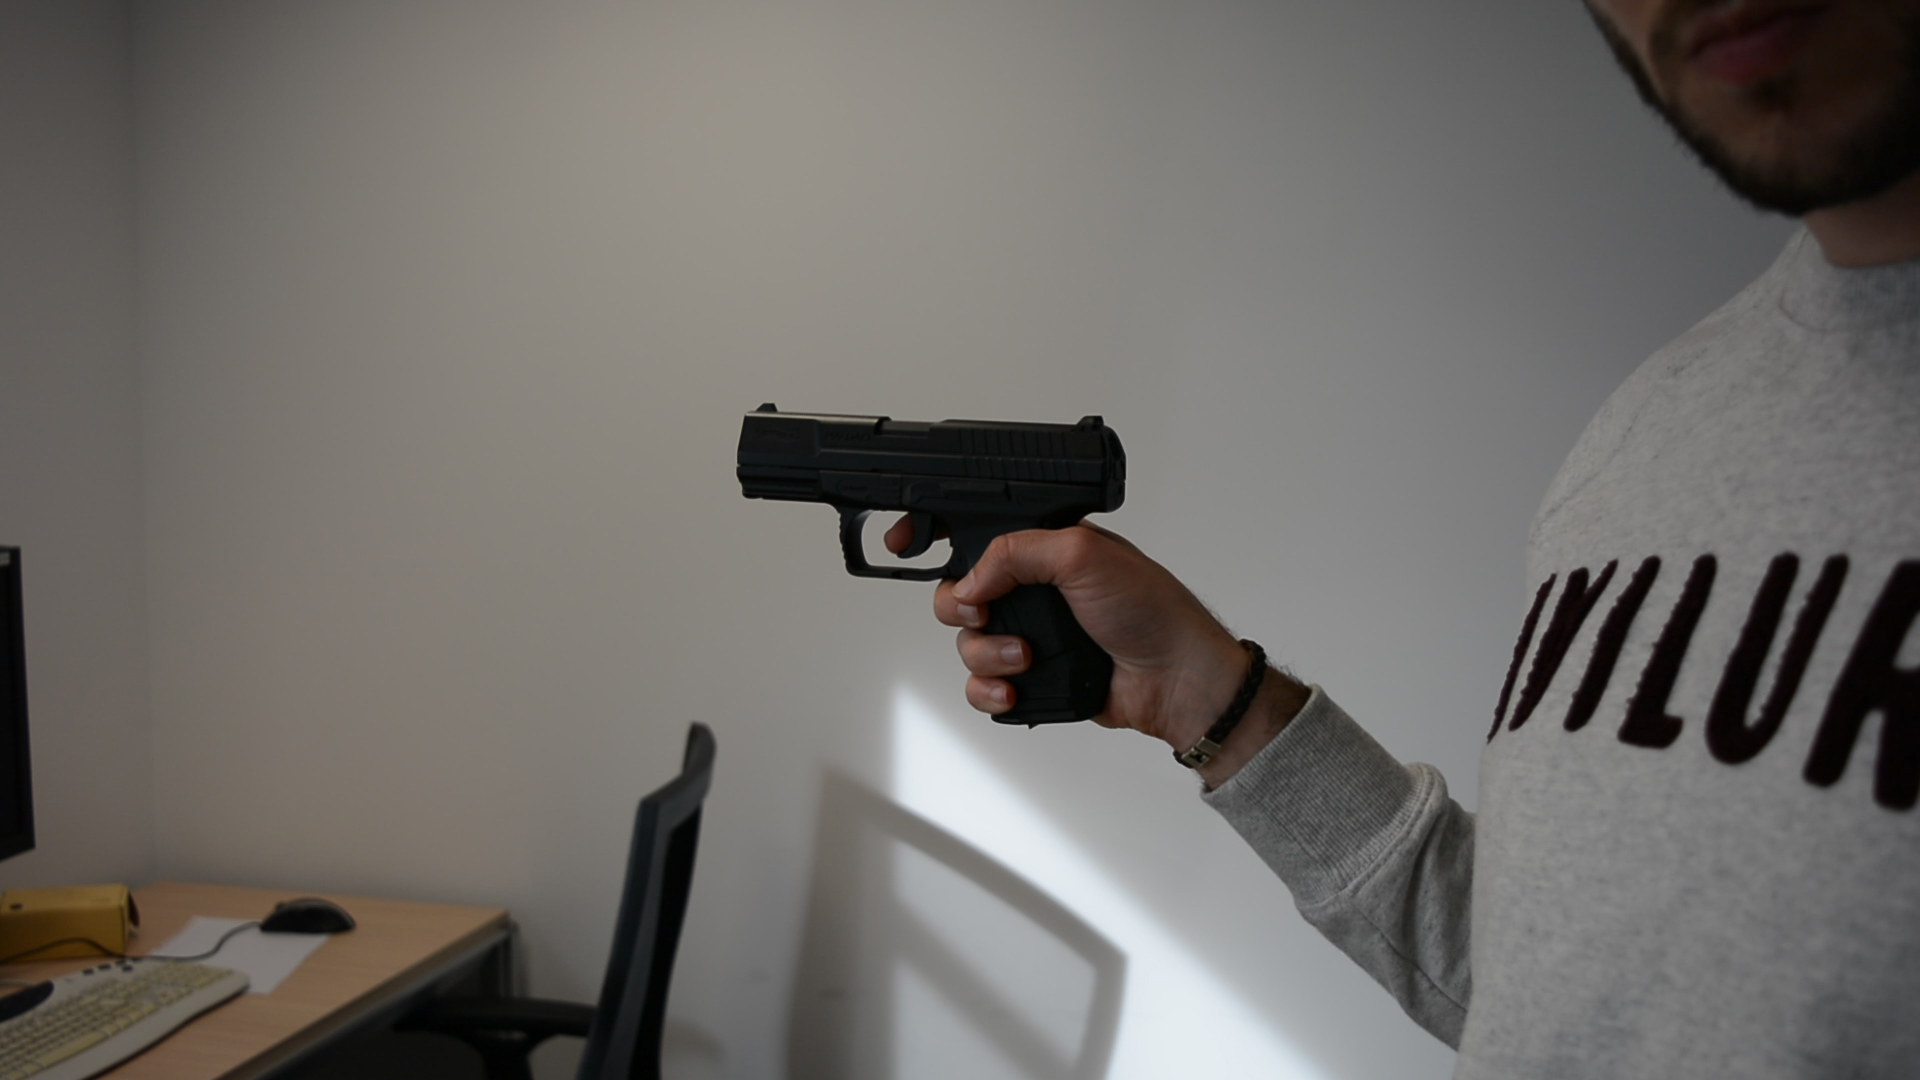pistol: (735, 400, 1129, 731)
